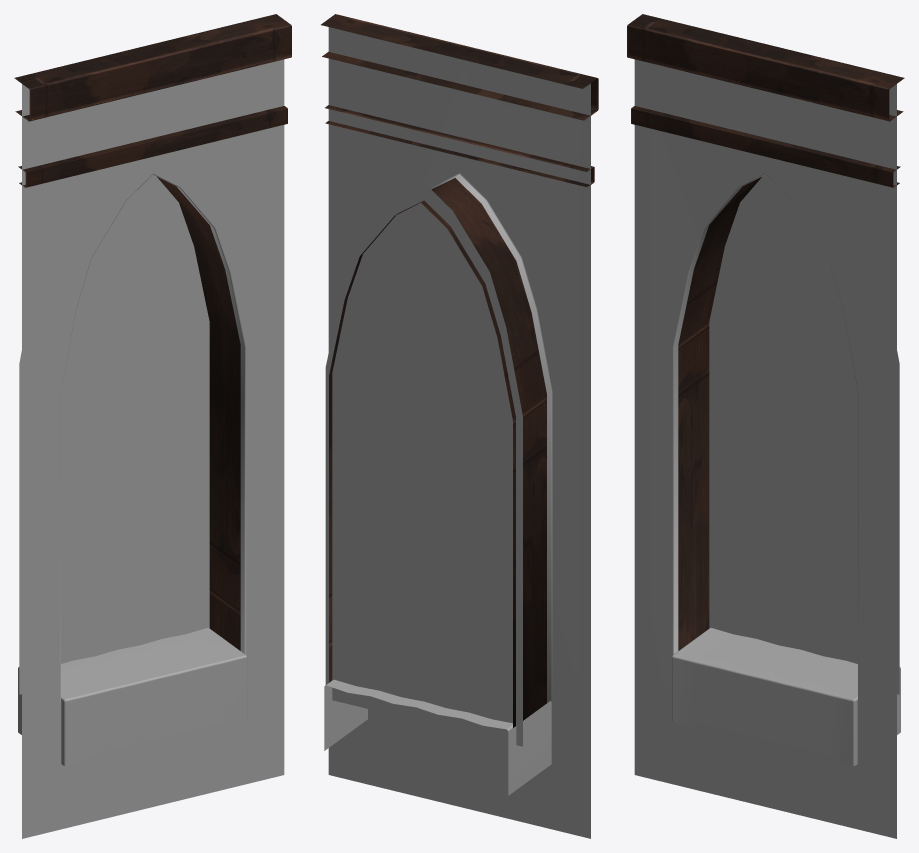
File: gg_room_win.fbx
3 views of the same model, side by side, from view 1: azimuth 30°, elevation 25°; view 2: azimuth 150°, elevation 25°; view 3: azimuth 330°, elevation 25° (orthographic).
Parts seen in each view (by area): view 1: gg_room_win; view 2: gg_room_win; view 3: gg_room_win.
Boxes of the visible parts, box(x1,y1,x2,y2) form: gg_room_win: box(14, 14, 291, 838); gg_room_win: box(321, 14, 598, 838); gg_room_win: box(627, 14, 904, 838).
Bounding box in the file's own units: 100 × 275 × 34.23.
